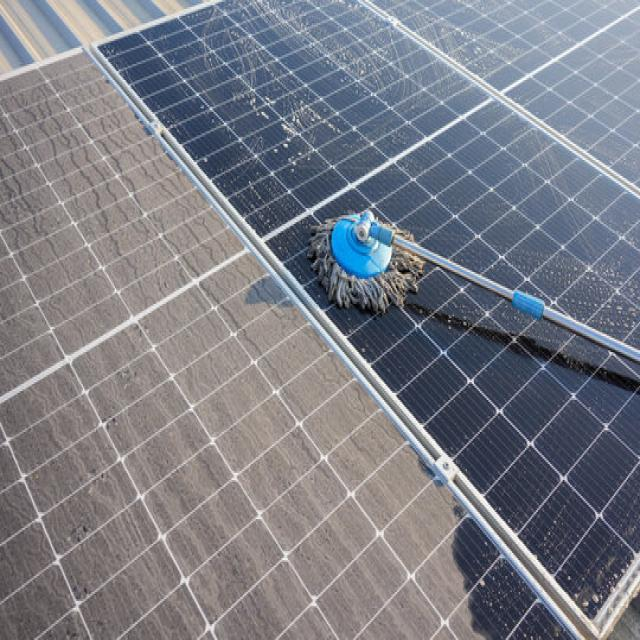dust-solar-panel: (0, 51, 479, 640)
